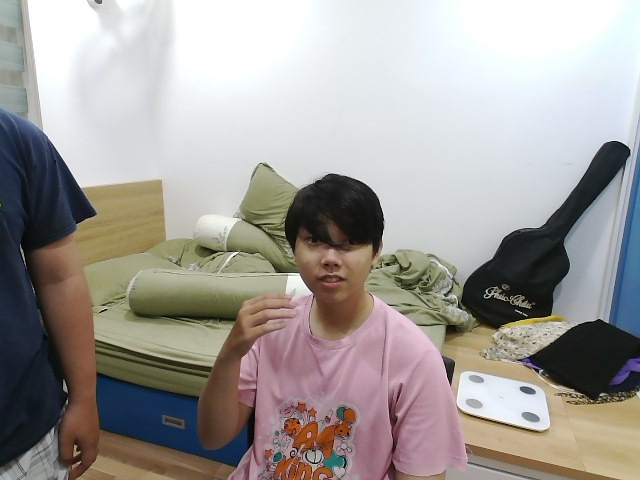face: (284, 174, 385, 303)
